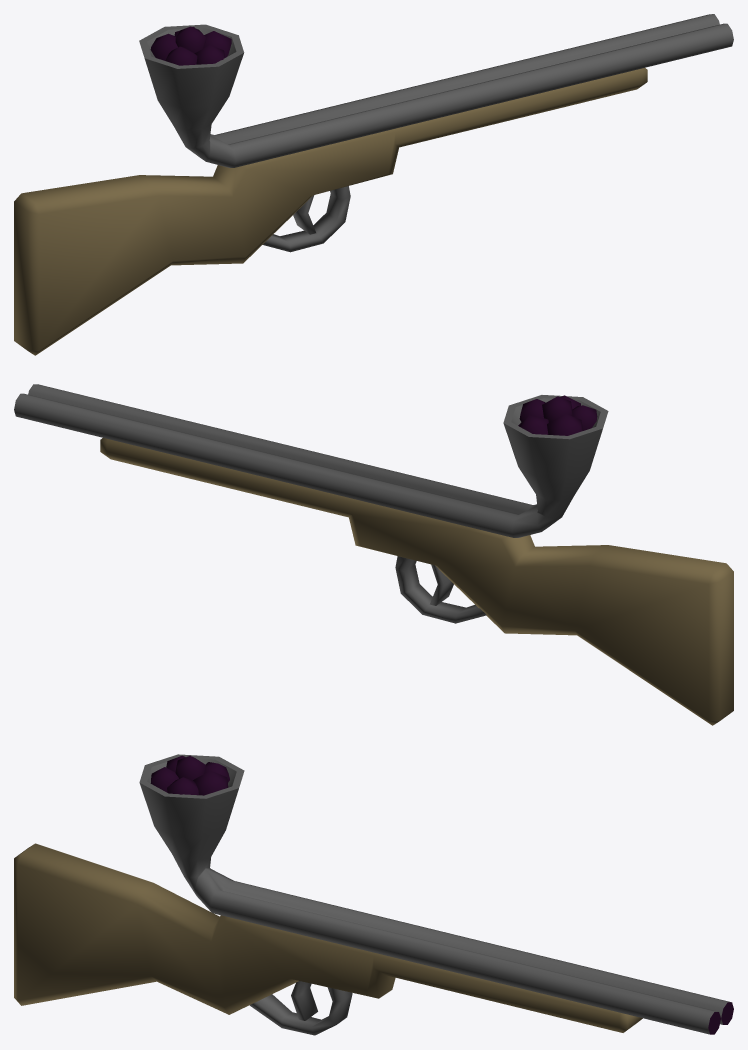
The model's file is berrygun.fbx.
The picture shows the model from 3 angles, top to bottom: view 1: azimuth 30°, elevation 25°; view 2: azimuth 150°, elevation 25°; view 3: azimuth 330°, elevation 25°; orthographic projection.
Visible parts, largest first — view 1: Cylinder.035; view 2: Cylinder.035; view 3: Cylinder.035.
Part boxes in pixels (x1=…): Cylinder.035: x1=14, y1=14, x2=733, y2=355; Cylinder.035: x1=14, y1=384, x2=733, y2=725; Cylinder.035: x1=14, y1=754, x2=733, y2=1035.
Bounding box in the file's own units: 136 × 52.73 × 18.27.
